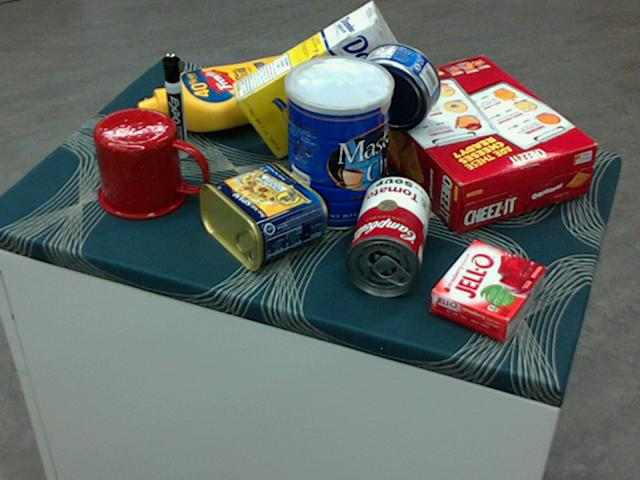cracker_box: (358, 54, 594, 233)
gelatin_box: (429, 239, 544, 339)
large_marker: (160, 53, 189, 159)
master_chef_can: (283, 56, 392, 232)
mug: (94, 107, 206, 220)
mustard_bottle: (136, 53, 310, 131)
potted_meat_can: (196, 162, 326, 271)
sugar_box: (229, 1, 415, 160)
tomato_soup_can: (343, 175, 431, 295)
tuna_fish_can: (351, 41, 440, 128)
